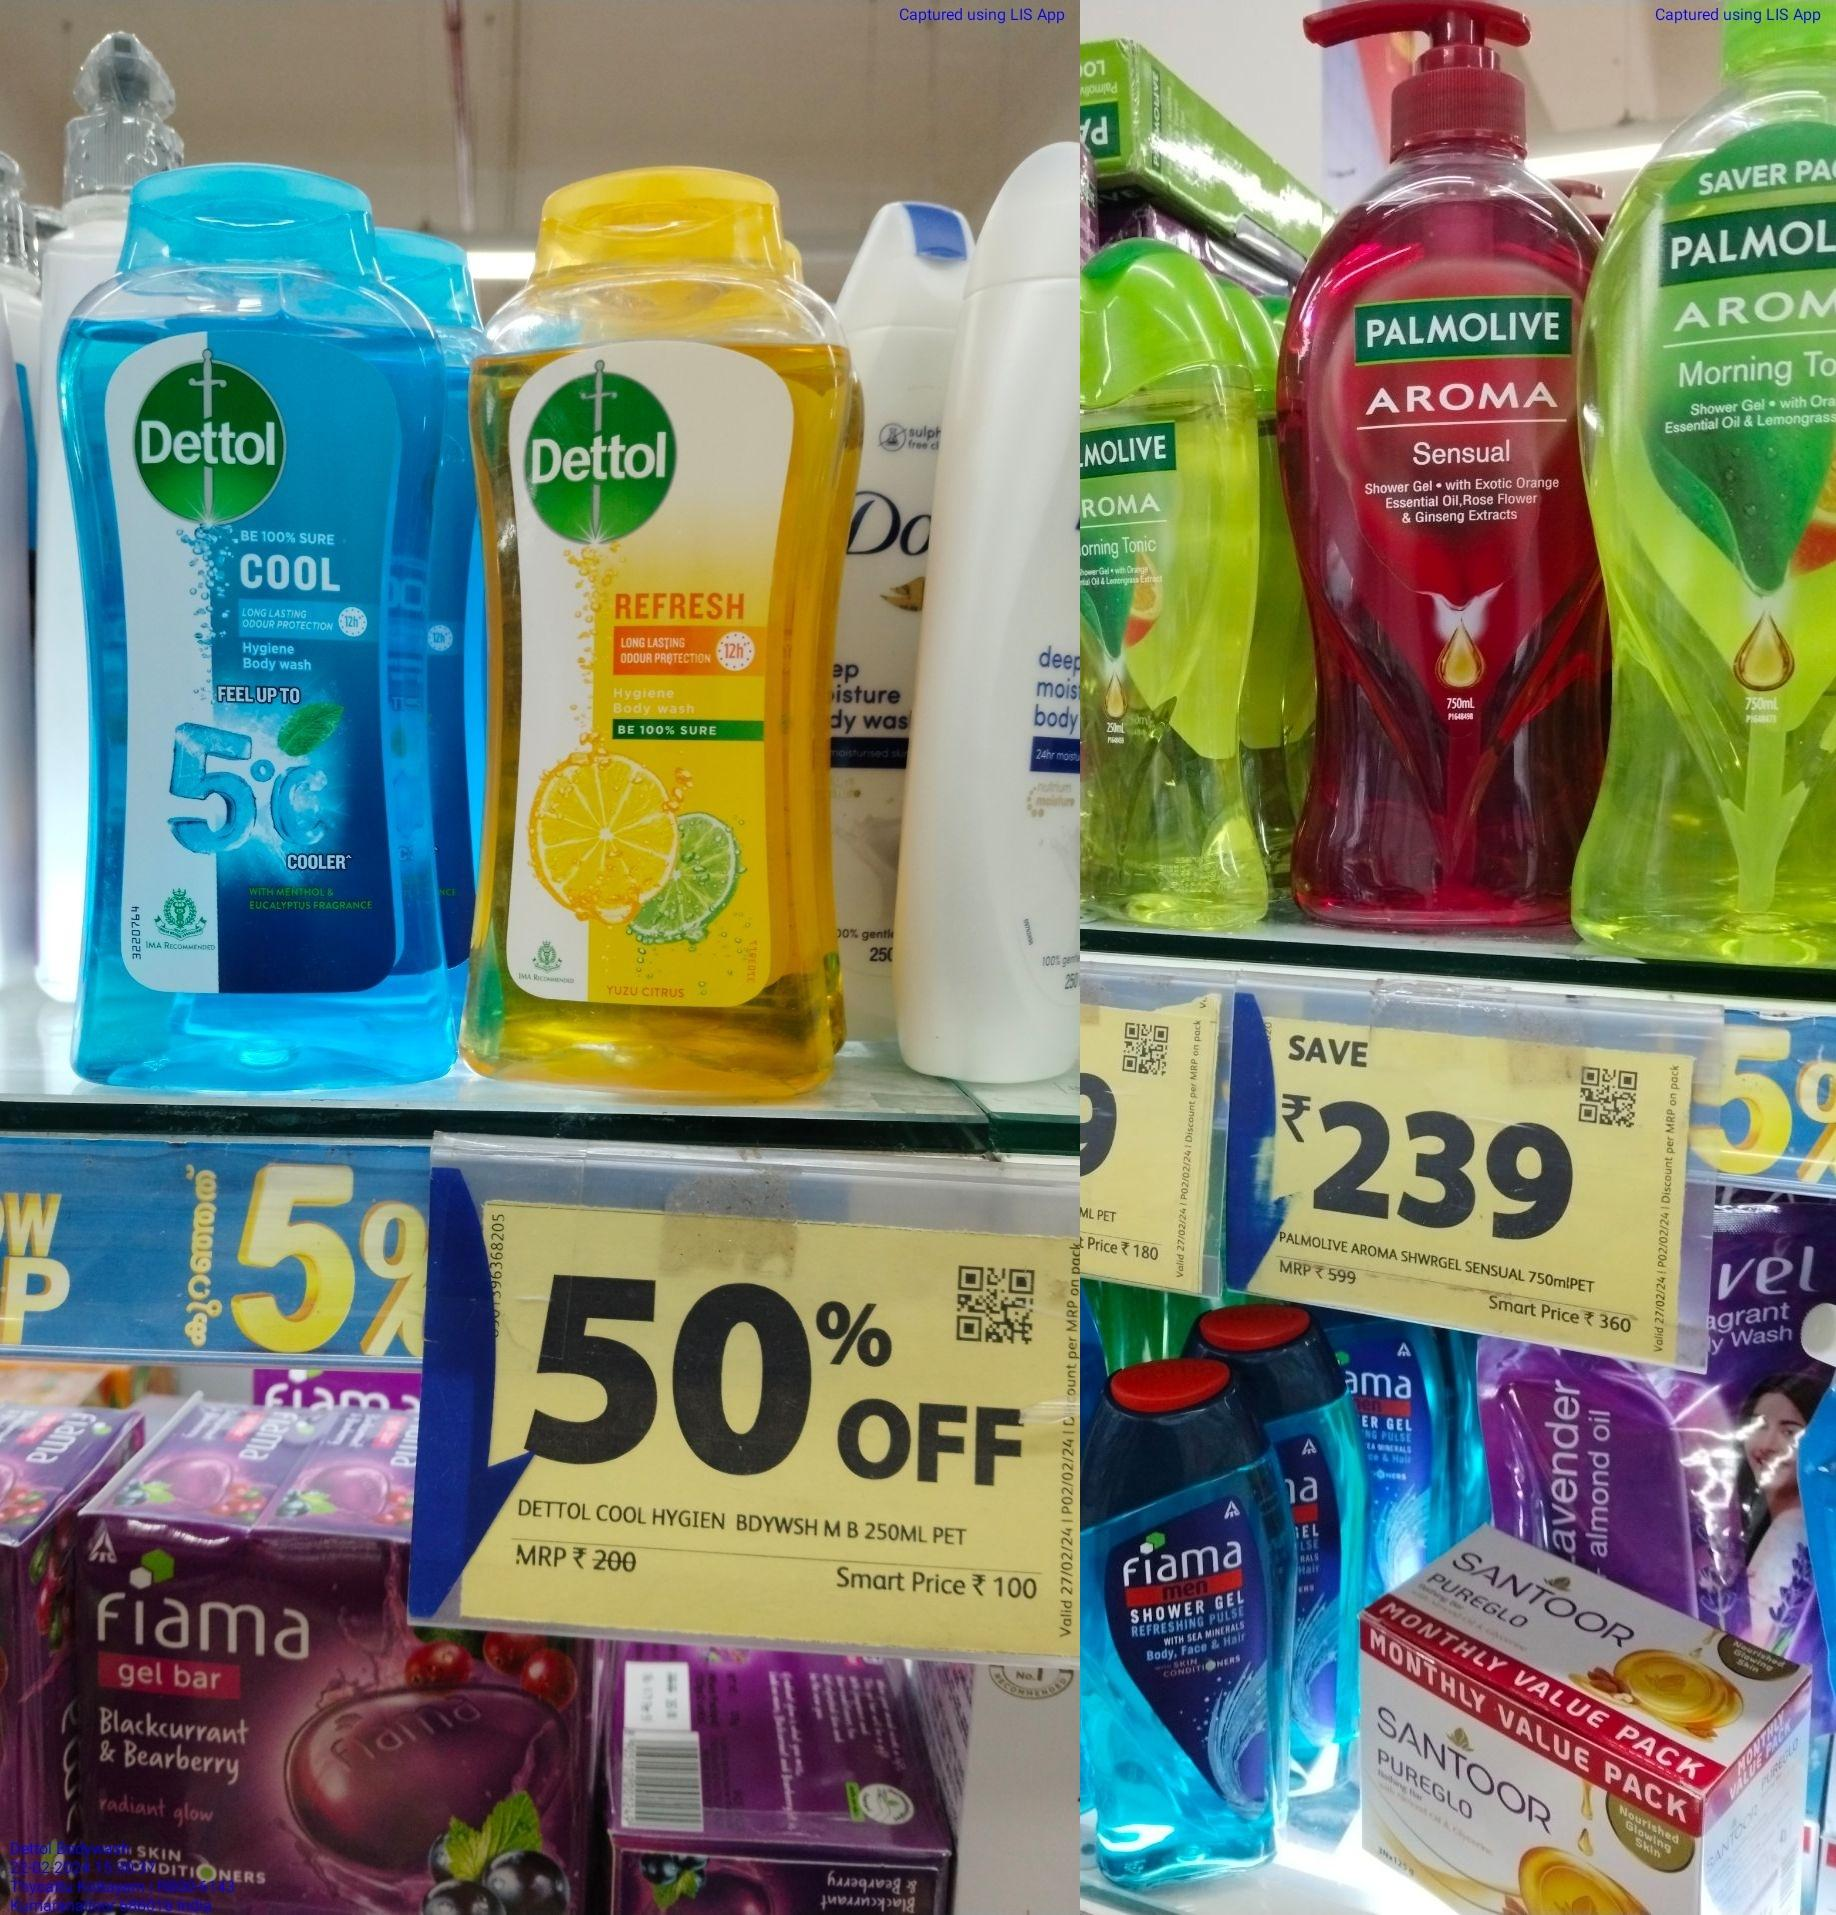Dettol_Bodywash_Cool: (50, 174, 465, 1099)
Dettol_Bodywash_Refresh: (485, 174, 855, 1094)
